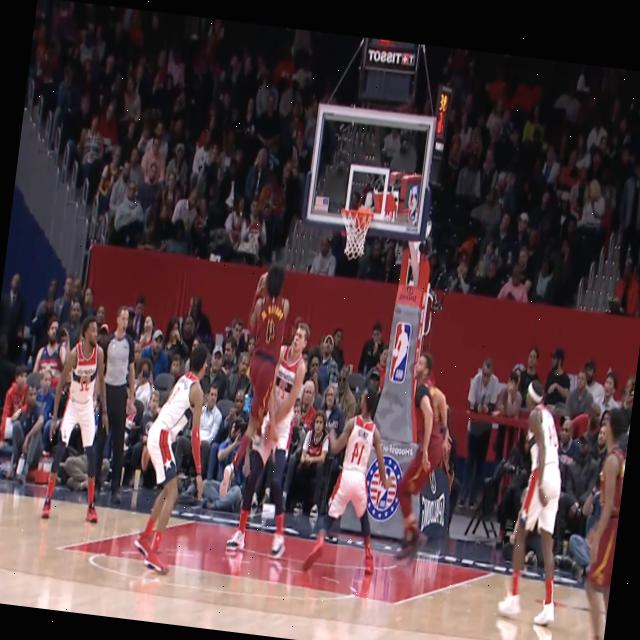foul: (226, 260, 322, 553)
